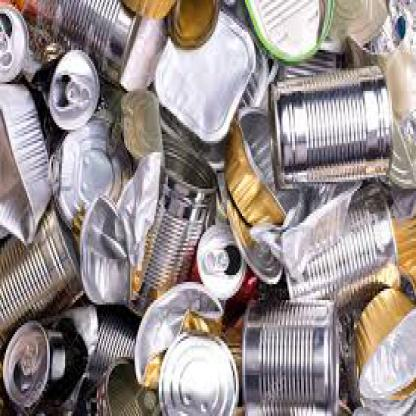METAL: (148, 6, 263, 154), (122, 146, 215, 314), (268, 64, 390, 180), (284, 186, 400, 307), (0, 200, 82, 352), (240, 293, 338, 414), (16, 0, 143, 87), (48, 114, 138, 234), (21, 14, 111, 125), (133, 277, 222, 389), (225, 102, 301, 228), (0, 81, 52, 244), (2, 318, 86, 414), (356, 284, 414, 409), (158, 327, 238, 414), (188, 216, 256, 309), (76, 193, 134, 302), (68, 357, 160, 414), (227, 198, 281, 284), (83, 302, 136, 368), (118, 89, 160, 161), (119, 16, 162, 86), (0, 5, 29, 75), (339, 307, 358, 411), (392, 209, 414, 296), (390, 107, 414, 186)
